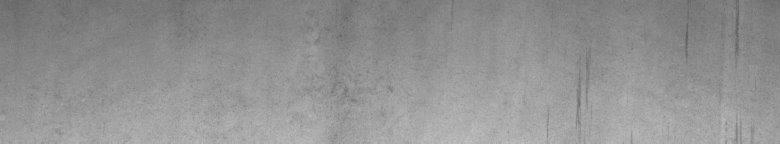ka: (681, 6, 754, 136)
